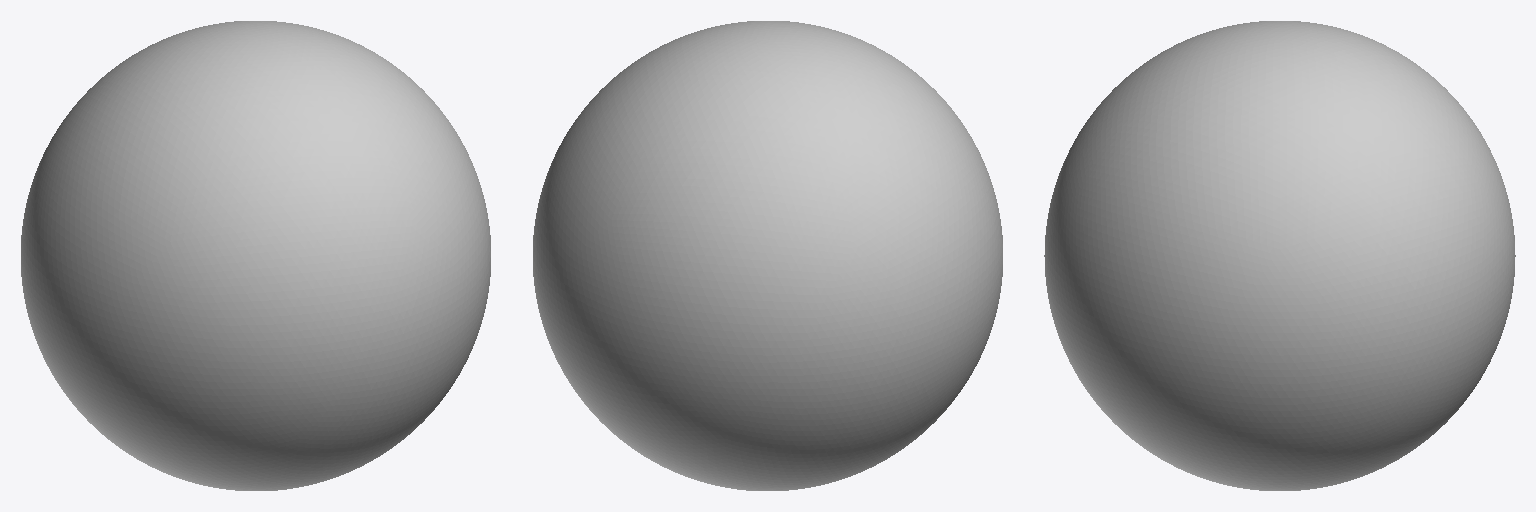
Rendered from planet.obj.
The picture shows the model from 3 angles: view 1: azimuth 30°, elevation 25°; view 2: azimuth 150°, elevation 25°; view 3: azimuth 270°, elevation 25°; orthographic projection.
Visible parts, largest first — view 1: Planet_Planet_Icosphere; view 2: Planet_Planet_Icosphere; view 3: Planet_Planet_Icosphere.
Part boxes in pixels (x1,y1,x2,y2): Planet_Planet_Icosphere: (21,21,490,490); Planet_Planet_Icosphere: (533,21,1002,490); Planet_Planet_Icosphere: (1044,21,1515,490).
Size of the model in its own units: 0.6502 by 0.6502 by 0.6502.